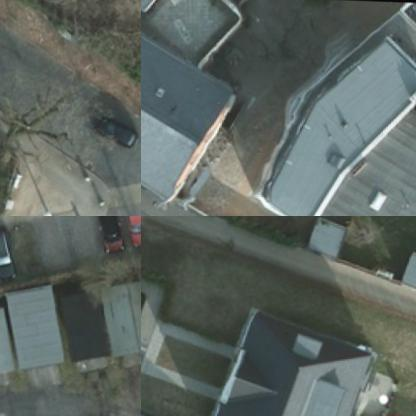car: (85, 109, 136, 149), (91, 216, 123, 252), (116, 216, 140, 248), (0, 225, 14, 279)
